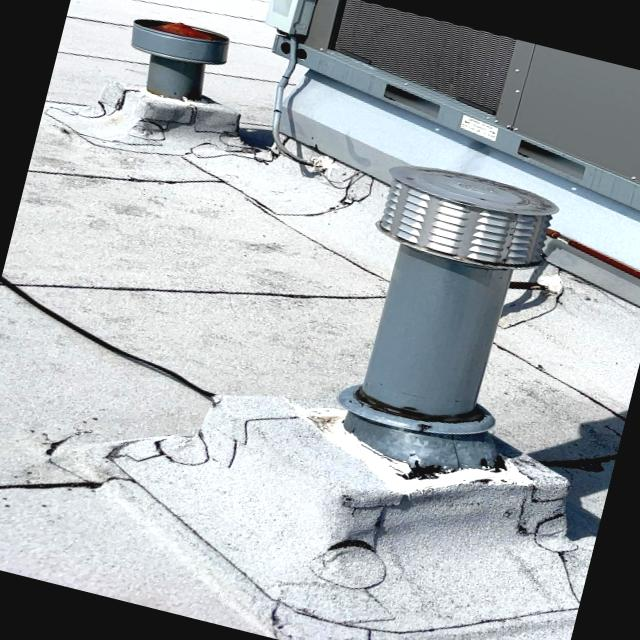GRAVITY-VENT: (288, 132, 580, 549), (96, 3, 262, 152)
RTU: (228, 0, 640, 293)
